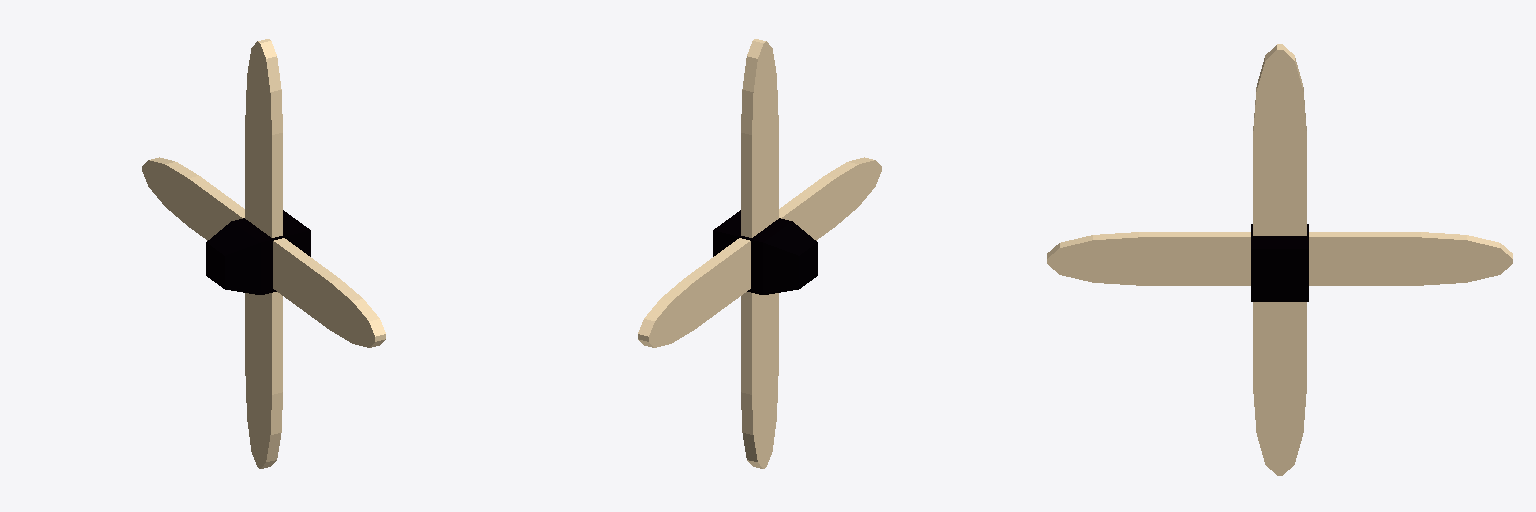
The model's file is Aspas.obj.
3 renders of one model, left to right at view 1: azimuth 30°, elevation 25°; view 2: azimuth 150°, elevation 25°; view 3: azimuth 270°, elevation 25°, orthographic.
Parts seen in each view (by area): view 1: Aspas; view 2: Aspas; view 3: Aspas.
Boxes of the visible parts, x1=… form: Aspas: x1=142, y1=39, x2=385, y2=468; Aspas: x1=638, y1=39, x2=881, y2=468; Aspas: x1=1047, y1=44, x2=1512, y2=475.
Bounding box in the file's own units: 0.4891 × 2.46 × 2.43.